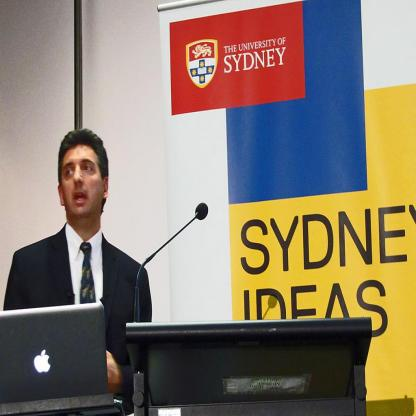board: (8, 300, 118, 400)
